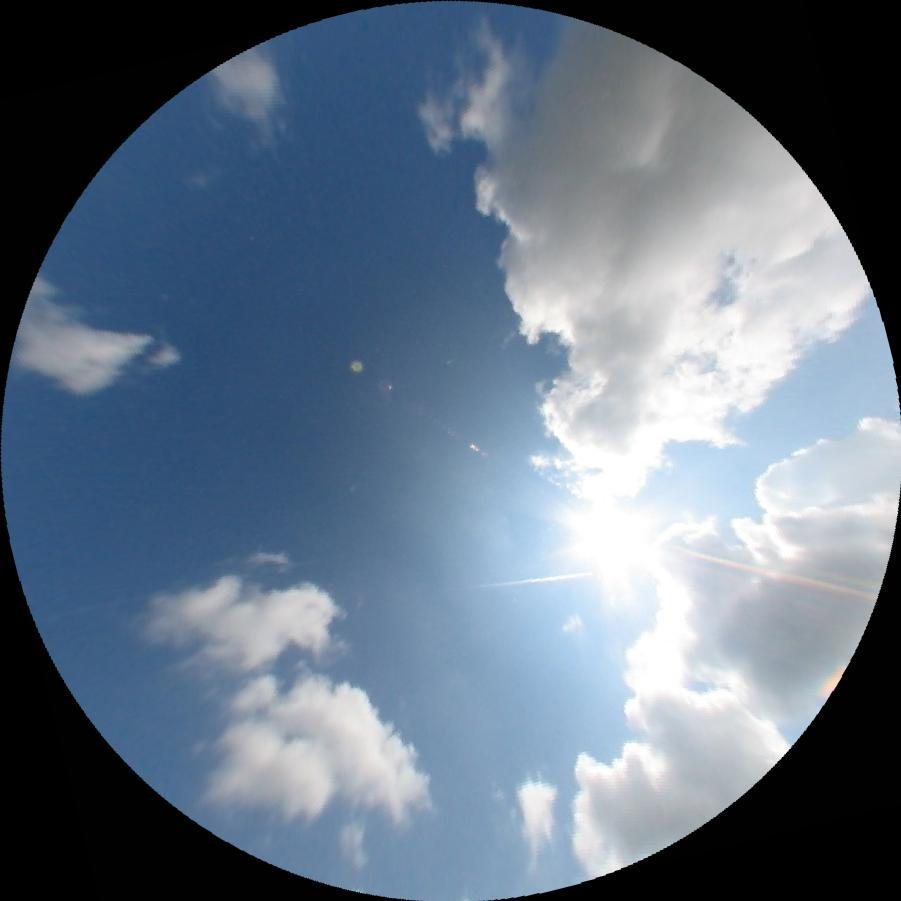contrail young: (463, 571, 590, 590)
sun: (564, 493, 655, 580)
